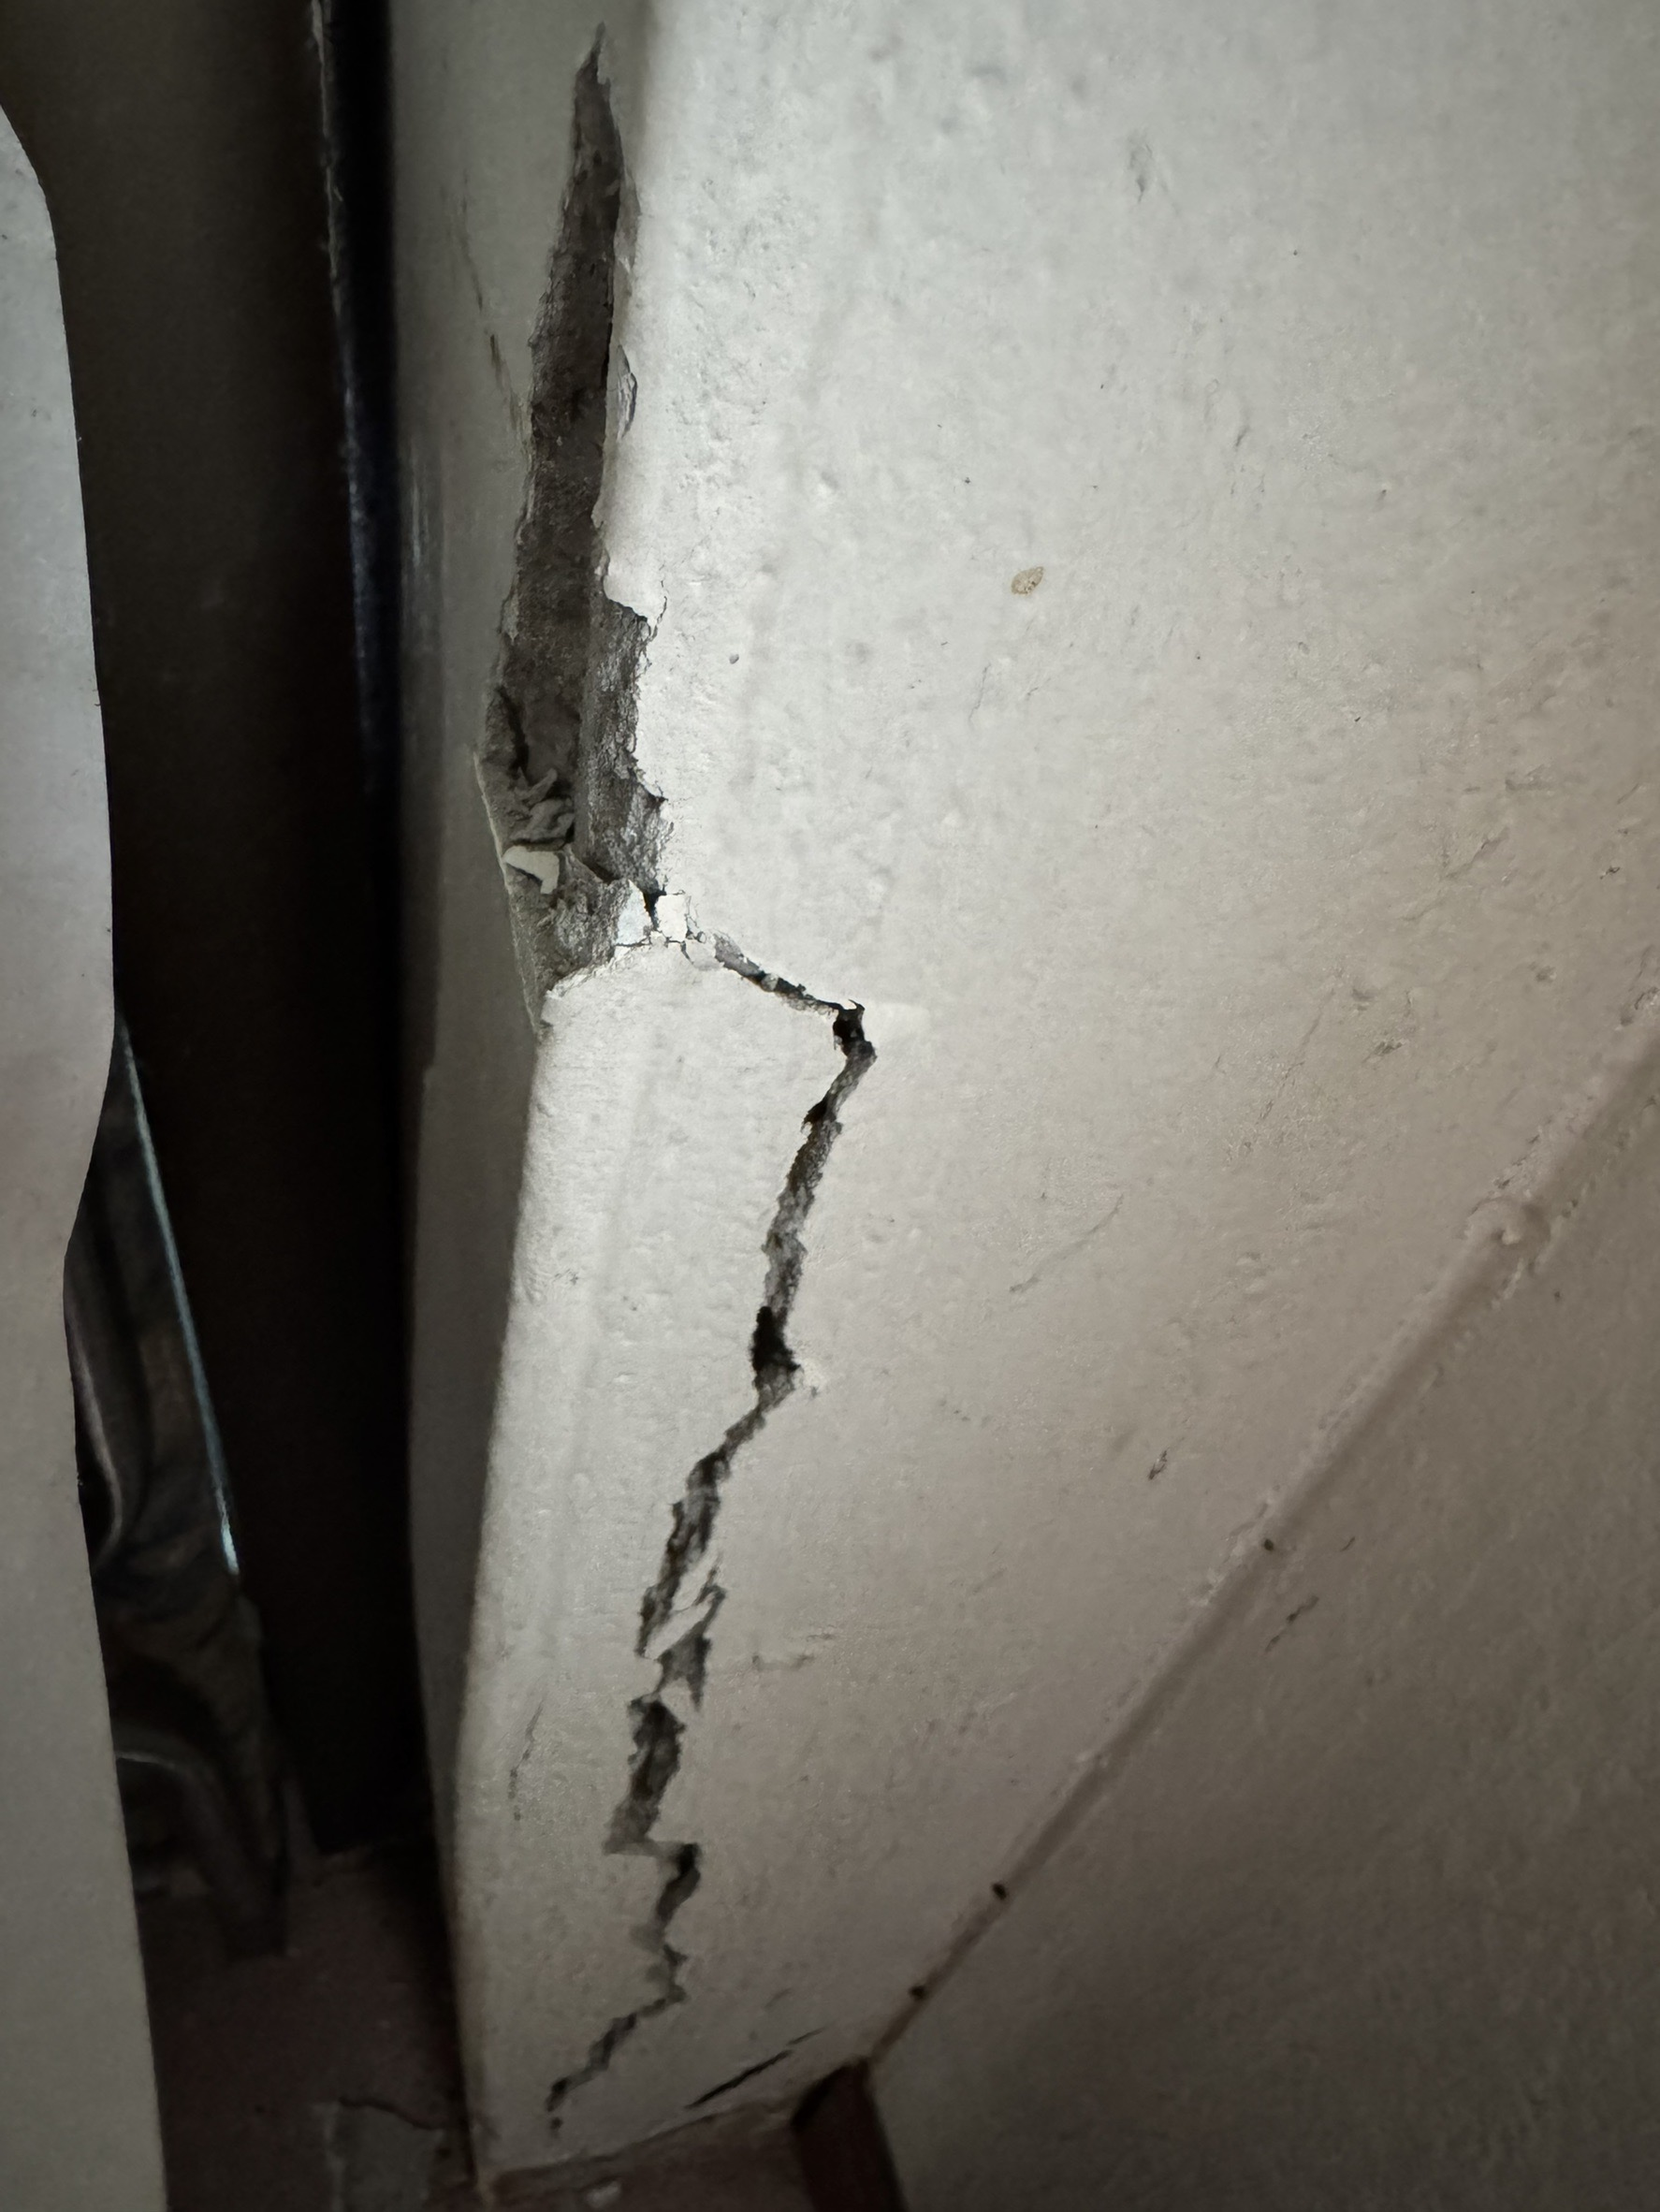High: (382, 14, 945, 2188)
